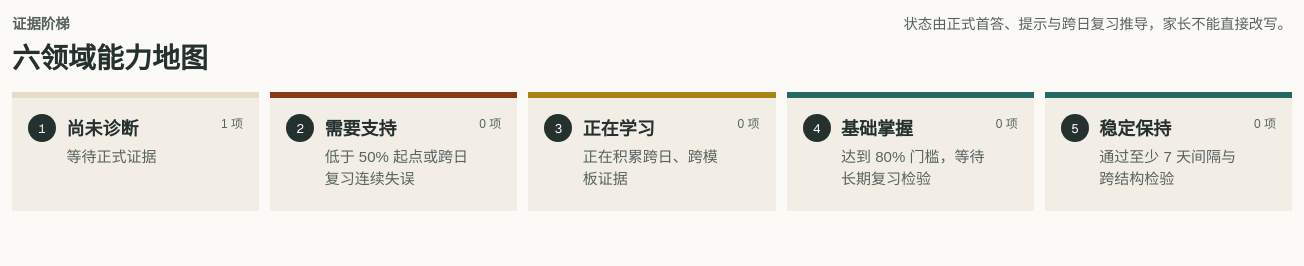
summarizes zero-evidence undiagnosed skills instead of expanding every card
What coordinates should you click on to do the following:
click the text "尚未诊断"
I would click on:
 (102, 129)
Its box is [66,119,138,139].
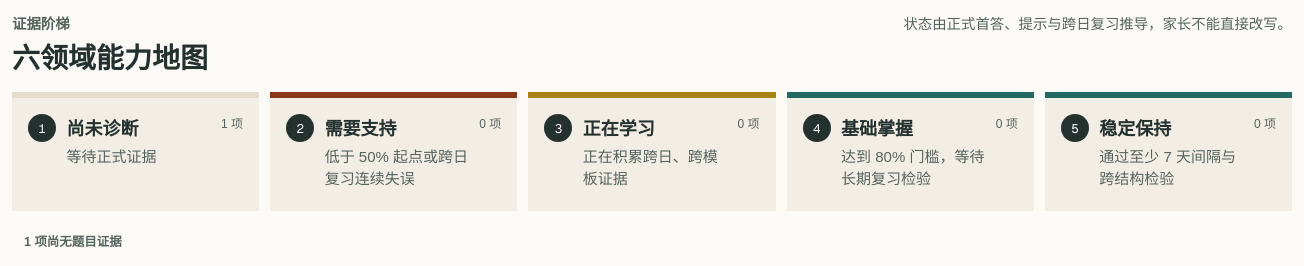
Expected: the heading "1 项尚无题目证据" is shown, [24,235,122,249]
